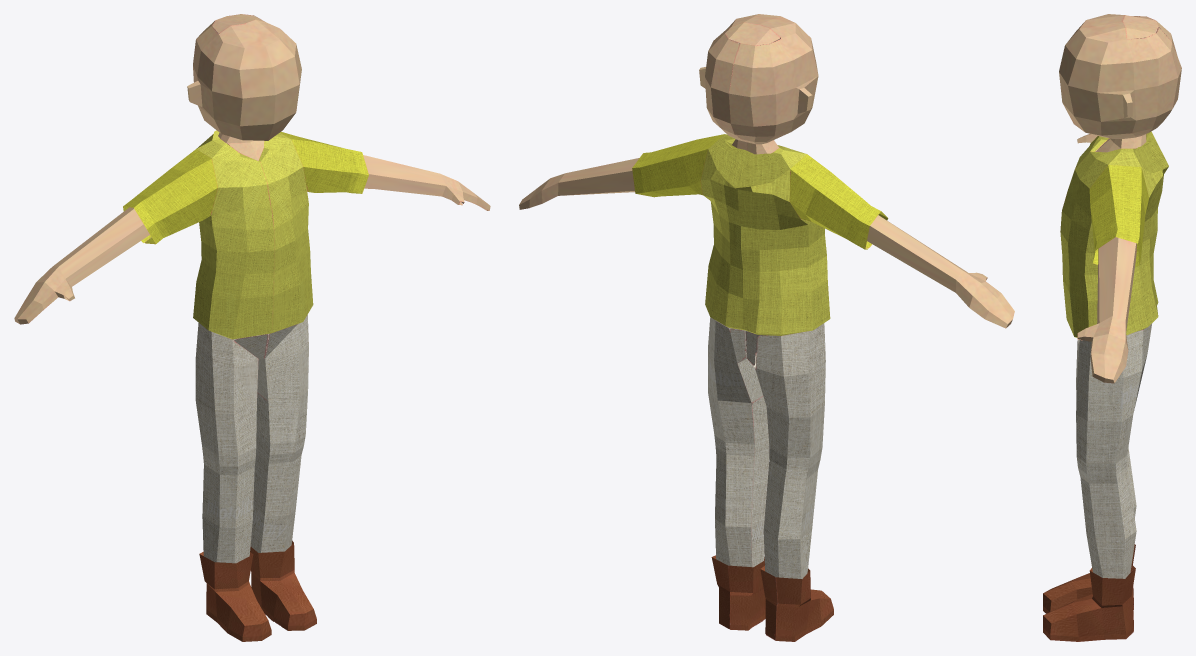
File: male_adultBody.fbx
3 renders of one model, left to right at view 1: azimuth 30°, elevation 25°; view 2: azimuth 150°, elevation 25°; view 3: azimuth 270°, elevation 25°, orthographic. The views are drawn at different scales.
Parts seen in each view (by area): view 1: male_adult:Body; view 2: male_adult:Body; view 3: male_adult:Body.
Boxes of the visible parts, bbox=[...] form: male_adult:Body: bbox=[14, 14, 490, 641]; male_adult:Body: bbox=[519, 14, 1014, 641]; male_adult:Body: bbox=[1043, 14, 1181, 641].
Bounding box in the file's own units: 665 × 789 × 165.
Materials: 1 (1 with a texture image).
